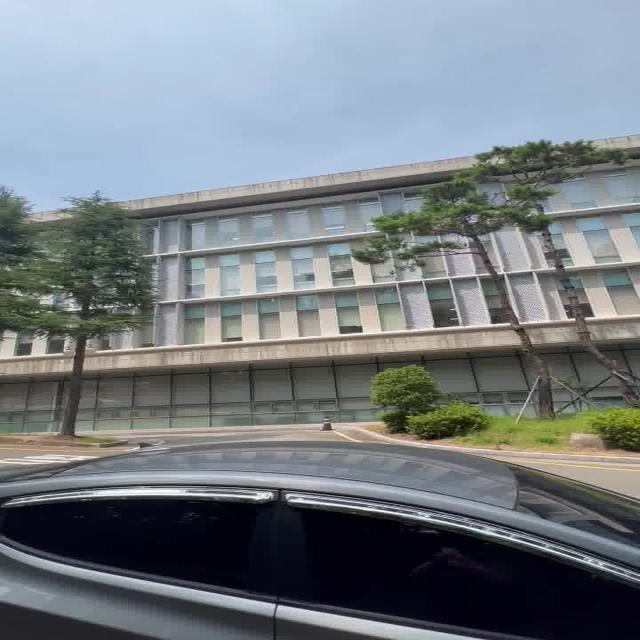building: (137, 146, 373, 417)
